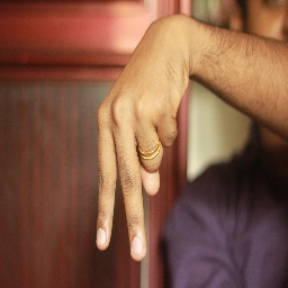Y: (88, 82, 179, 262)
